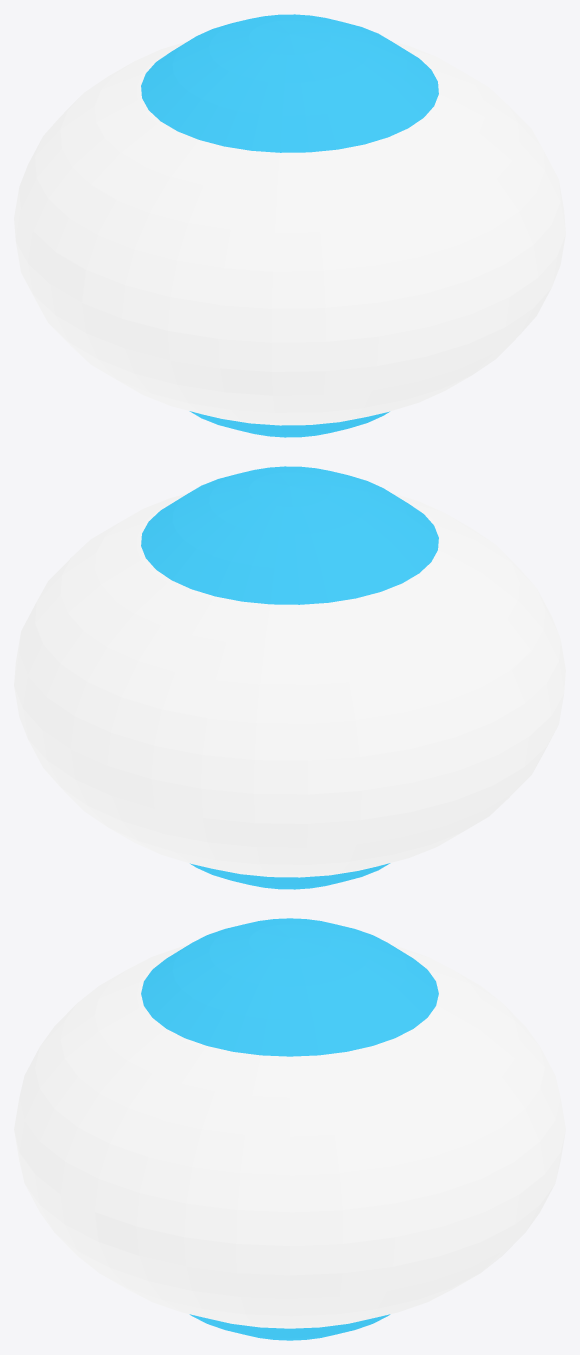
File: fireball.glb
3 renders of one model, top to bottom at view 1: azimuth 30°, elevation 25°; view 2: azimuth 150°, elevation 25°; view 3: azimuth 270°, elevation 25°, orthographic.
Parts seen in each view (by area): view 1: 球.003, 球; view 2: 球.003, 球; view 3: 球.003, 球.
Boxes of the visible parts, x1,y1,x2,y2 form: 球.003: [14, 41, 565, 425]; 球: [141, 14, 438, 437]; 球.003: [14, 493, 565, 877]; 球: [141, 466, 438, 889]; 球.003: [14, 945, 565, 1328]; 球: [141, 918, 438, 1340].
Size of the model in its own units: 6.15 by 4.71 by 6.15.
